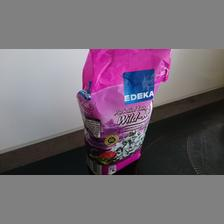Reis: (76, 47, 173, 173)
